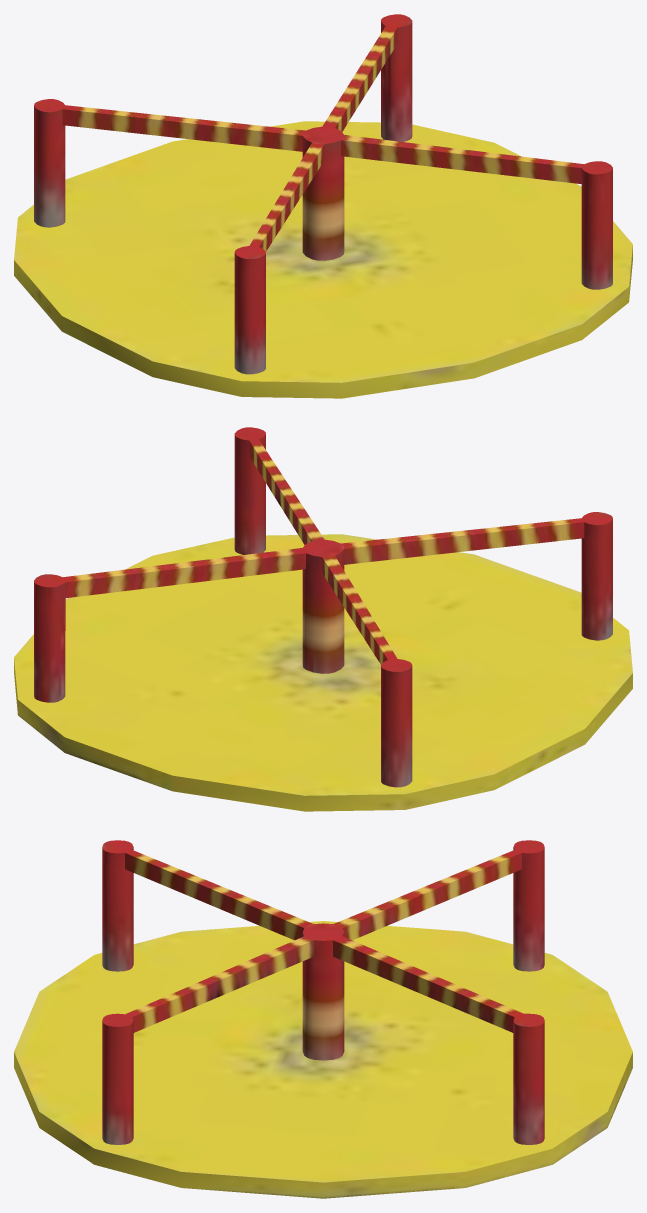
File: play_3013.glb
3 renders of one model, top to bottom at view 1: azimuth 30°, elevation 25°; view 2: azimuth 150°, elevation 25°; view 3: azimuth 270°, elevation 25°, orthographic. The views are drawn at different scales.
Visible parts, largest first — view 1: play_3013; view 2: play_3013; view 3: play_3013.
Part boxes in pixels (left/top/right/bottom): play_3013: left=14, top=14, right=632, bottom=398; play_3013: left=14, top=427, right=632, bottom=811; play_3013: left=14, top=840, right=632, bottom=1198.
Bounding box in the file's own units: 2.4 × 0.797 × 2.4.
Materials: 1 (1 with a texture image).
